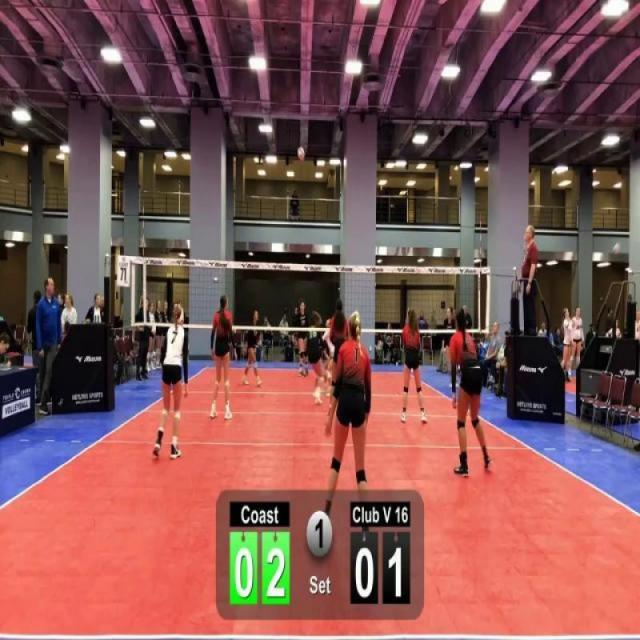volleyball: (611, 241, 622, 257), (296, 144, 306, 161)
